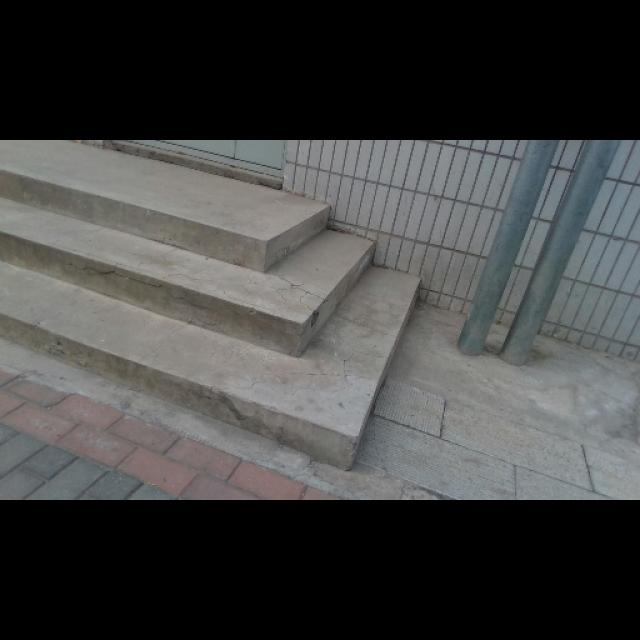Stairs: (0, 142, 421, 470)
